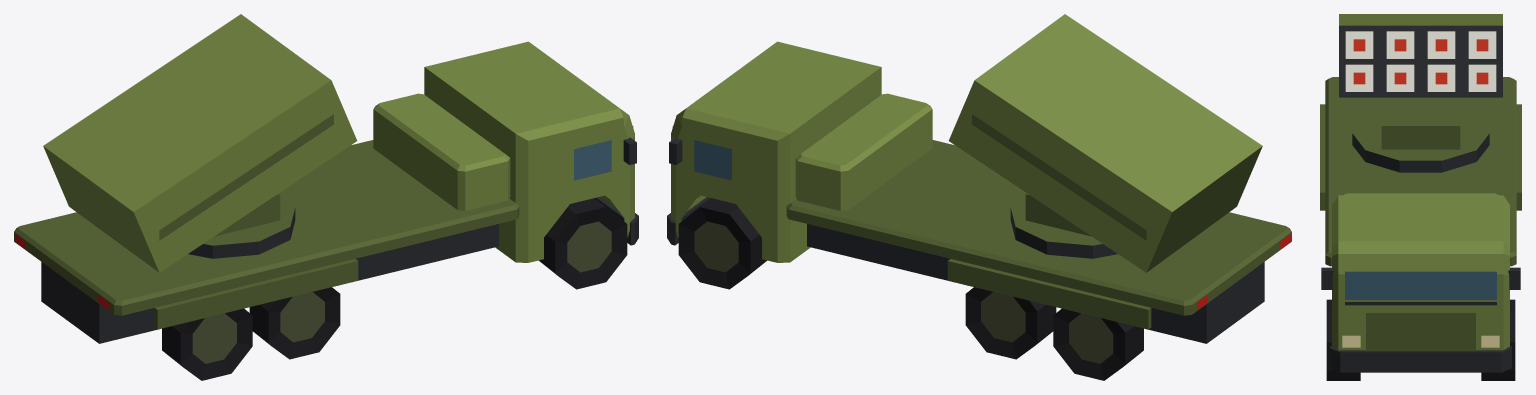
The model's file is mlrs.glb.
The picture shows the model from 3 angles, left to right: view 1: azimuth 30°, elevation 25°; view 2: azimuth 150°, elevation 25°; view 3: azimuth 270°, elevation 25°; orthographic projection. The views are drawn at different scales.
Visible parts, largest first — view 1: Body, Turret; view 2: Body, Turret; view 3: Body, Turret.
Part boxes in pixels (x1,y1,x2,y2): Body: (14, 41, 638, 380); Turret: (43, 14, 357, 272); Body: (667, 41, 1291, 380); Turret: (948, 14, 1262, 272); Body: (1320, 77, 1521, 380); Turret: (1339, 14, 1502, 172).
Size of the model in its own units: 0.8482 by 0.3994 by 0.308.
